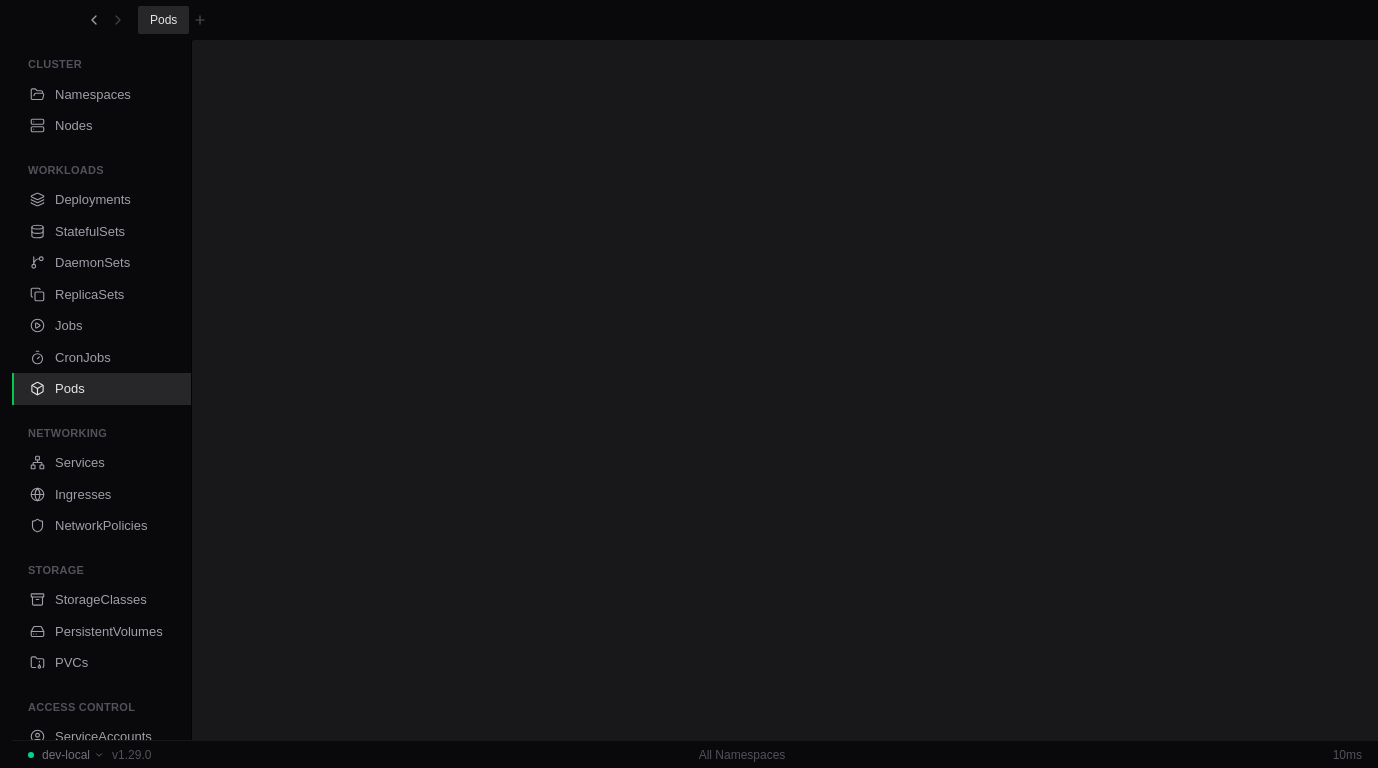
Test: ServiceDetailView › displays events
Step 1. Click the button "Services" → x=102, y=463, box [12,447,191,478]
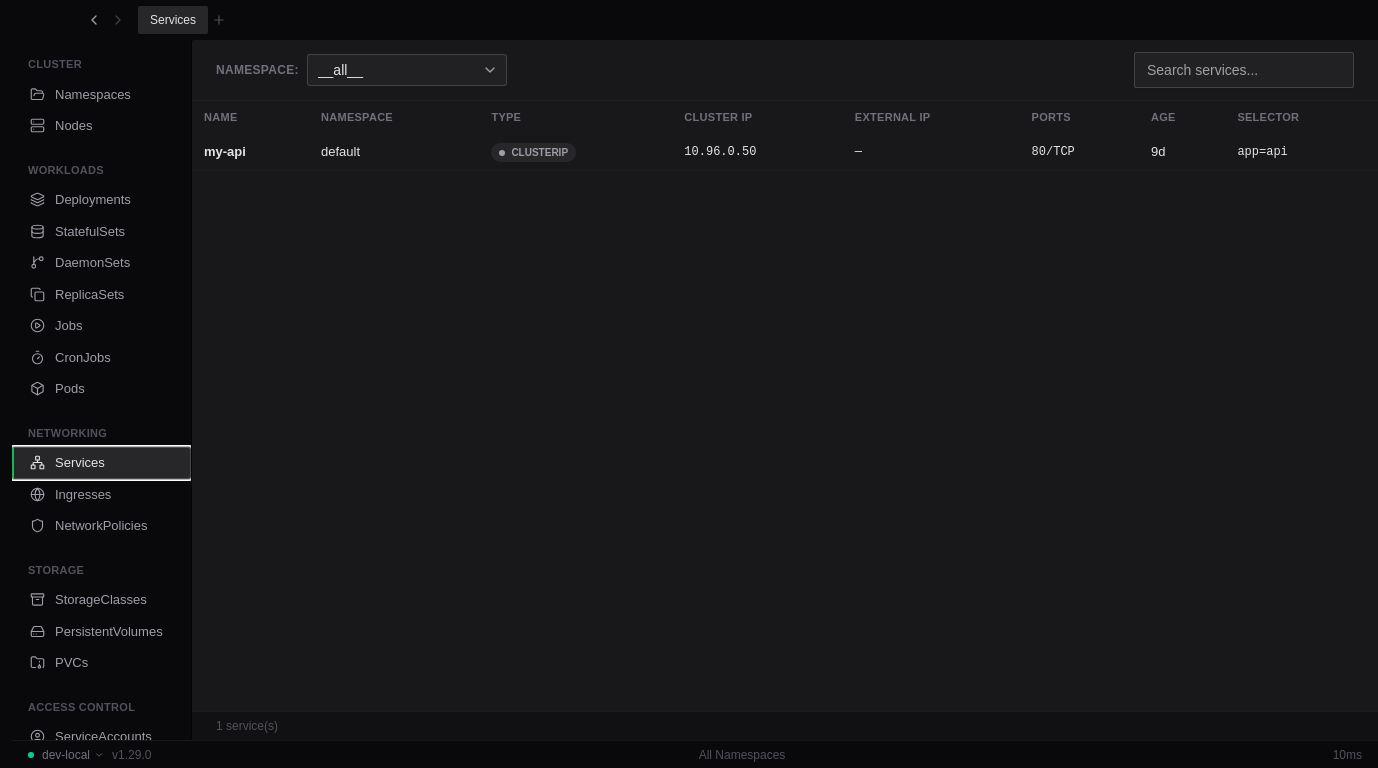
Now the text "my-api" is shown
Step 2. Click the text "my-api" → x=250, y=152, box [192,134,309,170]
(page scrolled)
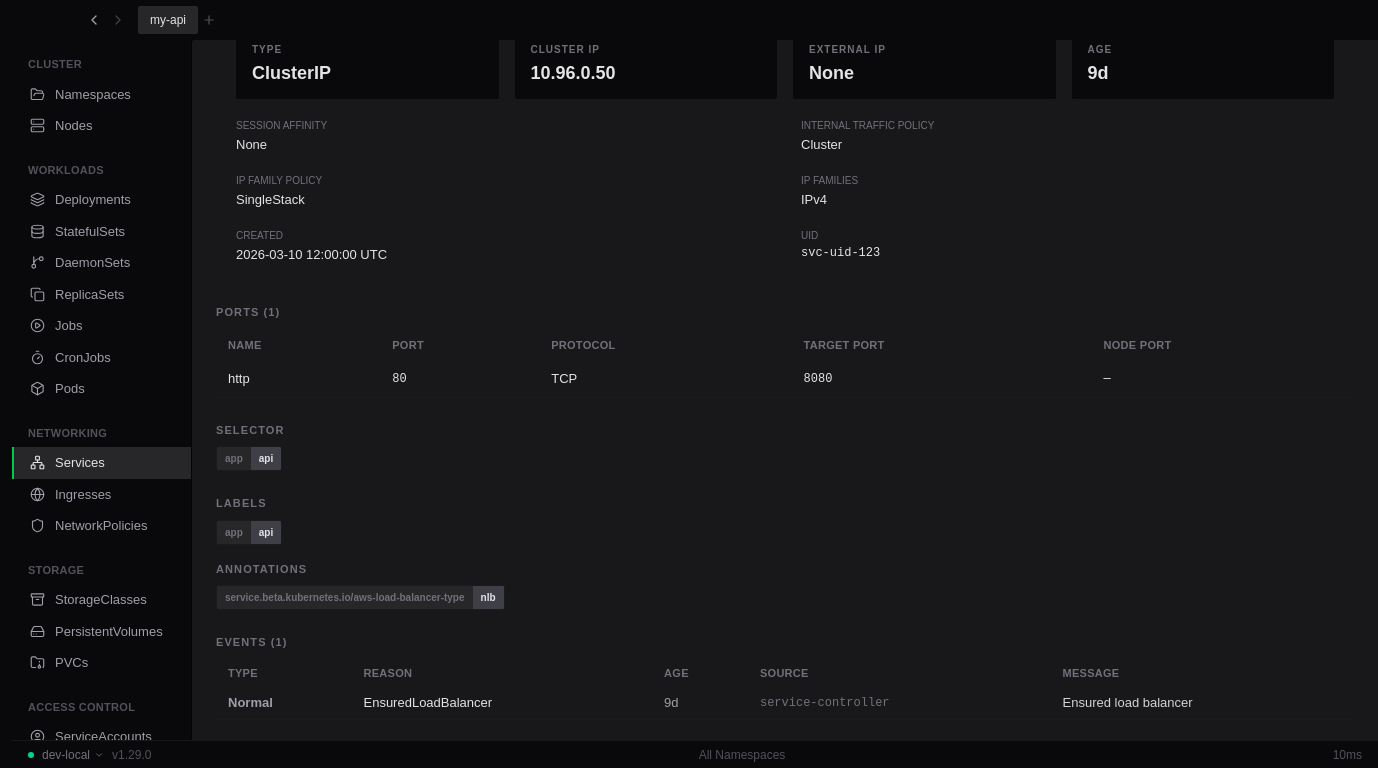
Now the heading "Events (1)" is shown, box [216,636,288,648]
Now the text "EnsuredLoadBalancer" is shown, box [352,687,652,719]
